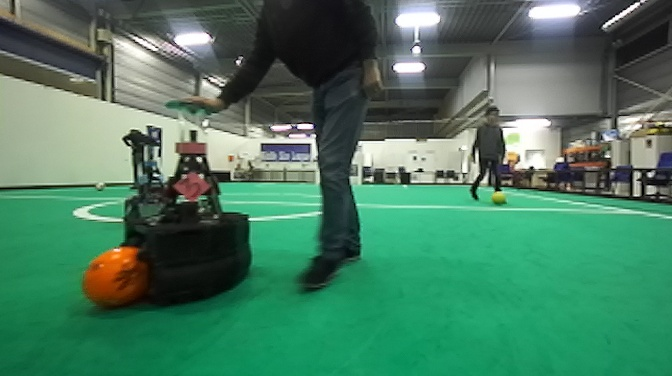ball: (76, 242, 150, 312), (490, 189, 507, 210), (94, 179, 107, 192)
goalpost: (356, 157, 364, 188)
human: (179, 1, 389, 297), (467, 104, 509, 201), (122, 125, 160, 192)
robot: (119, 99, 255, 310)
